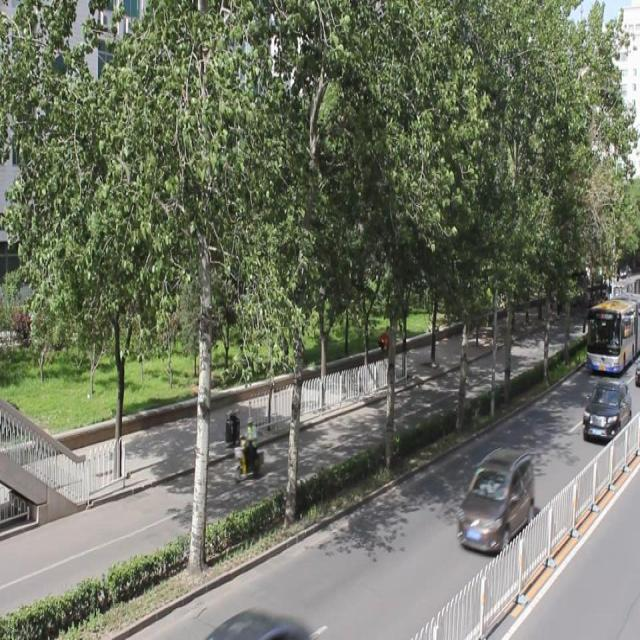car: (456, 444, 534, 554), (581, 376, 632, 445)
